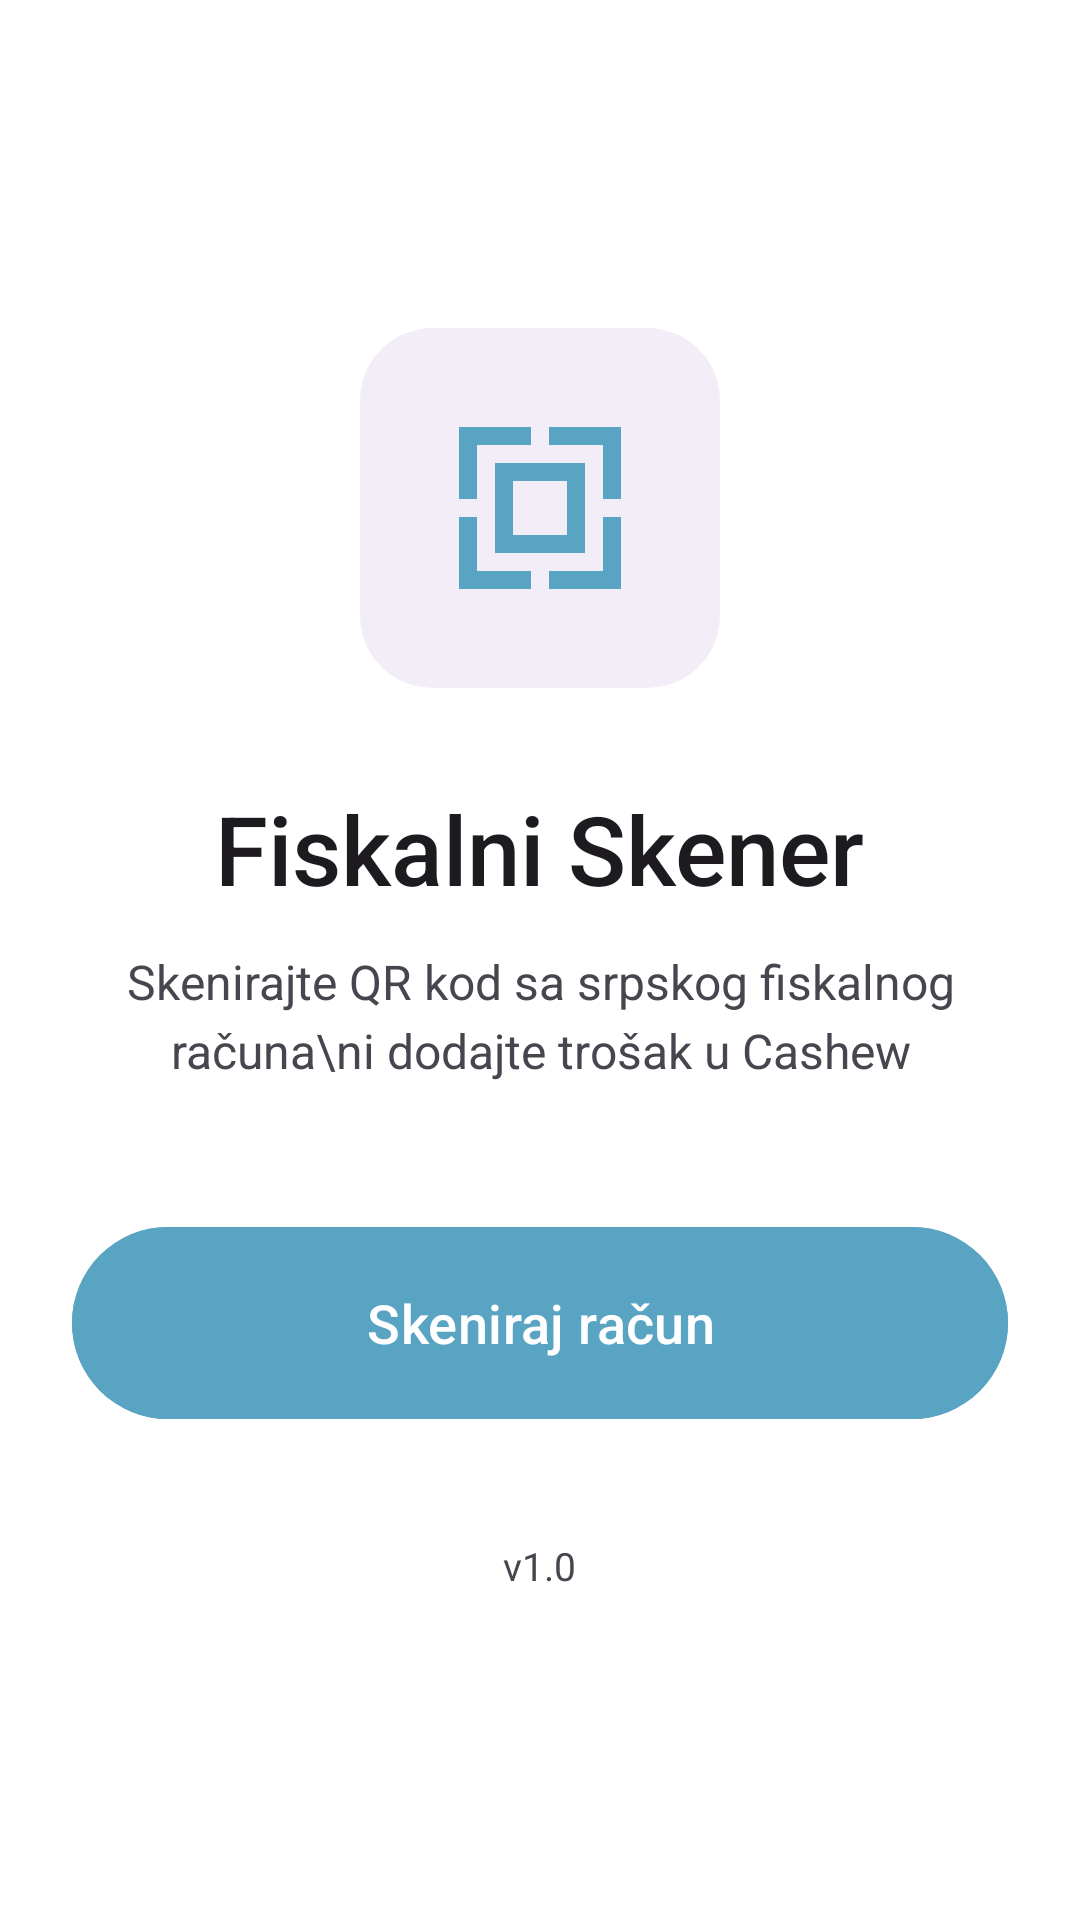

Screen size 1080×1920. Icon name, then its box in pixels as (x1, y1, x2, y2):
qr scanner: (459, 427, 621, 589)
